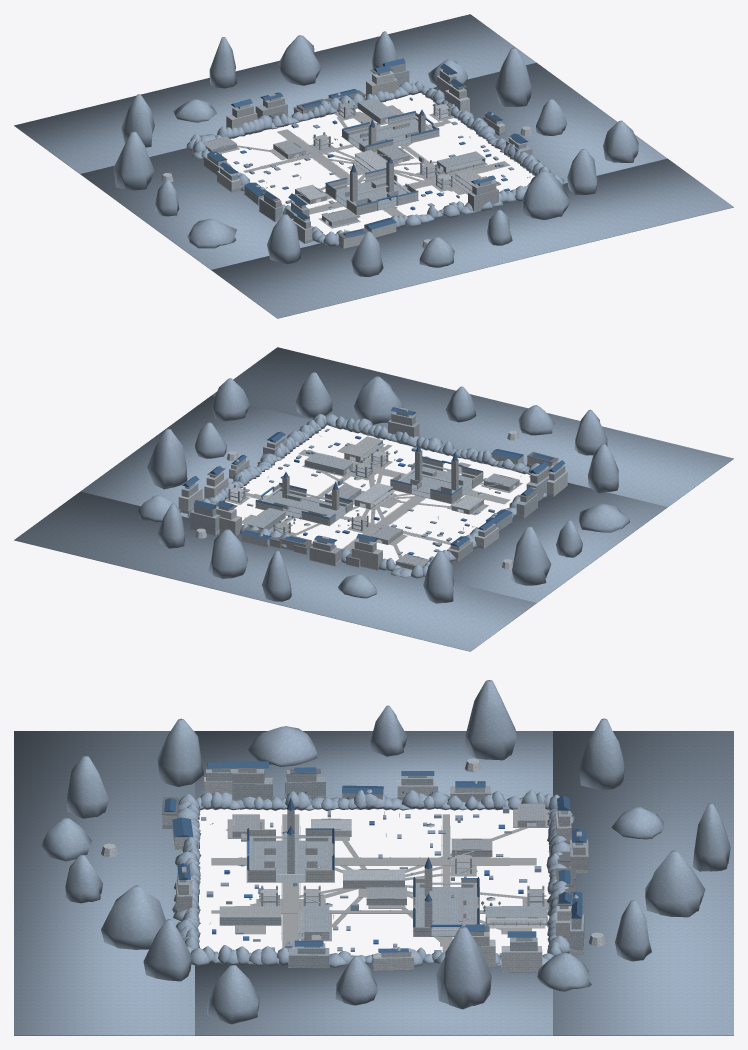
The model's file is setsugen-lod1.glb.
3 renders of one model, top to bottom at view 1: azimuth 30°, elevation 25°; view 2: azimuth 150°, elevation 25°; view 3: azimuth 270°, elevation 25°, orthographic. The views are drawn at different scales.
Parts seen in each view (by area): view 1: HB_setsugen_LOD1_terrain, HB_setsugen_LOD1_wall_alt, HB_setsugen_LOD1_wall, HB_setsugen_LOD1_road, HB_setsugen_LOD1_wall_cool, HB_setsugen_LOD1_wall_warm, HB_setsugen_LOD1_roof, HB_setsugen_LOD1_LANDMARK_0_wall_cool, HB_setsugen_LOD1_LANDMARK_1_wall_cool, HB_setsugen_LOD1_obstacle, HB_setsugen_LOD1_LANDMARK_0_wall_warm, HB_setsugen_LOD1_trim (+3 smaller); view 2: HB_setsugen_LOD1_terrain, HB_setsugen_LOD1_wall_alt, HB_setsugen_LOD1_wall, HB_setsugen_LOD1_wall_cool, HB_setsugen_LOD1_road, HB_setsugen_LOD1_wall_warm, HB_setsugen_LOD1_roof, HB_setsugen_LOD1_LANDMARK_0_wall_cool, HB_setsugen_LOD1_LANDMARK_1_wall_cool, HB_setsugen_LOD1_obstacle, HB_setsugen_LOD1_LANDMARK_0_wall_warm, HB_setsugen_LOD1_trim (+2 smaller); view 3: HB_setsugen_LOD1_terrain, HB_setsugen_LOD1_wall_alt, HB_setsugen_LOD1_road, HB_setsugen_LOD1_wall_cool, HB_setsugen_LOD1_wall, HB_setsugen_LOD1_roof, HB_setsugen_LOD1_wall_warm, HB_setsugen_LOD1_LANDMARK_0_wall_cool, HB_setsugen_LOD1_LANDMARK_1_wall_cool, HB_setsugen_LOD1_obstacle, HB_setsugen_LOD1_LANDMARK_0_wall_alt, HB_setsugen_LOD1_LANDMARK_0_wall_warm (+2 smaller).
Part boxes in pixels (x1,y1,x2,y2): HB_setsugen_LOD1_terrain: (14, 14, 733, 318); HB_setsugen_LOD1_wall_alt: (203, 85, 517, 248); HB_setsugen_LOD1_wall: (161, 70, 532, 248); HB_setsugen_LOD1_road: (220, 105, 510, 227); HB_setsugen_LOD1_wall_cool: (206, 63, 532, 248); HB_setsugen_LOD1_wall_warm: (208, 71, 484, 225); HB_setsugen_LOD1_roof: (207, 58, 528, 237); HB_setsugen_LOD1_LANDMARK_0_wall_cool: (336, 162, 407, 209); HB_setsugen_LOD1_LANDMARK_1_wall_cool: (349, 119, 430, 148); HB_setsugen_LOD1_obstacle: (218, 97, 514, 217); HB_setsugen_LOD1_LANDMARK_0_wall_warm: (328, 174, 397, 214); HB_setsugen_LOD1_trim: (257, 66, 530, 238); HB_setsugen_LOD1_terrain: (14, 347, 733, 651); HB_setsugen_LOD1_wall_alt: (181, 407, 567, 570); HB_setsugen_LOD1_wall: (178, 430, 567, 569); HB_setsugen_LOD1_wall_cool: (181, 412, 565, 548); HB_setsugen_LOD1_road: (225, 444, 521, 568); HB_setsugen_LOD1_wall_warm: (180, 436, 545, 569); HB_setsugen_LOD1_roof: (182, 407, 565, 546); HB_setsugen_LOD1_LANDMARK_0_wall_cool: (401, 450, 476, 498); HB_setsugen_LOD1_LANDMARK_1_wall_cool: (264, 487, 348, 520); HB_setsugen_LOD1_obstacle: (245, 428, 530, 559); HB_setsugen_LOD1_LANDMARK_0_wall_warm: (390, 468, 483, 503); HB_setsugen_LOD1_trim: (207, 435, 558, 560); HB_setsugen_LOD1_terrain: (14, 680, 733, 1035); HB_setsugen_LOD1_wall_alt: (162, 769, 588, 972); HB_setsugen_LOD1_road: (211, 809, 548, 951); HB_setsugen_LOD1_wall_cool: (162, 768, 584, 967); HB_setsugen_LOD1_wall: (101, 758, 605, 971); HB_setsugen_LOD1_roof: (162, 761, 586, 952); HB_setsugen_LOD1_wall_warm: (175, 768, 583, 971); HB_setsugen_LOD1_LANDMARK_0_wall_cool: (249, 834, 332, 881); HB_setsugen_LOD1_LANDMARK_1_wall_cool: (414, 882, 478, 936); HB_setsugen_LOD1_obstacle: (201, 806, 541, 955); HB_setsugen_LOD1_LANDMARK_0_wall_alt: (247, 810, 332, 881); HB_setsugen_LOD1_LANDMARK_0_wall_warm: (249, 829, 334, 881).
Size of the model in its own units: 676 by 75.51 by 676.
Materials: 13 (11 with a texture image).
